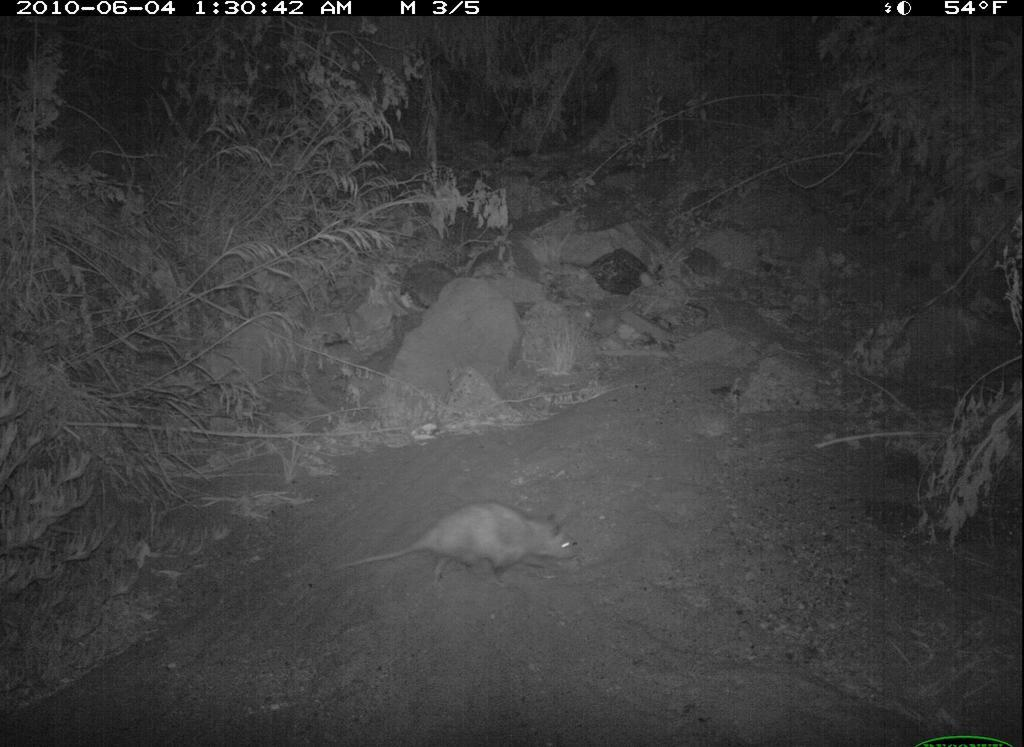opossum: (329, 492, 577, 605)
